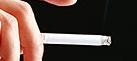smoke: (17, 31, 111, 46)
